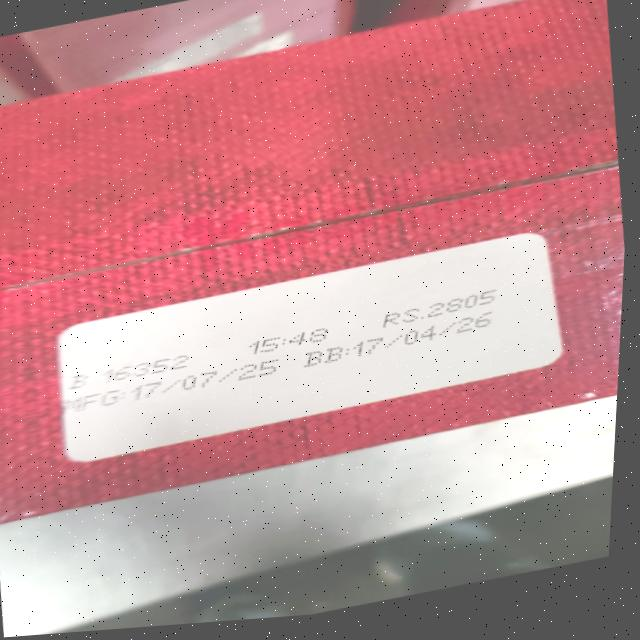BB: (300, 310, 501, 369)
Batch: (62, 352, 196, 391)
MFG: (57, 355, 285, 416)
RS: (378, 288, 503, 328)
TimeStamp: (248, 325, 336, 355)
